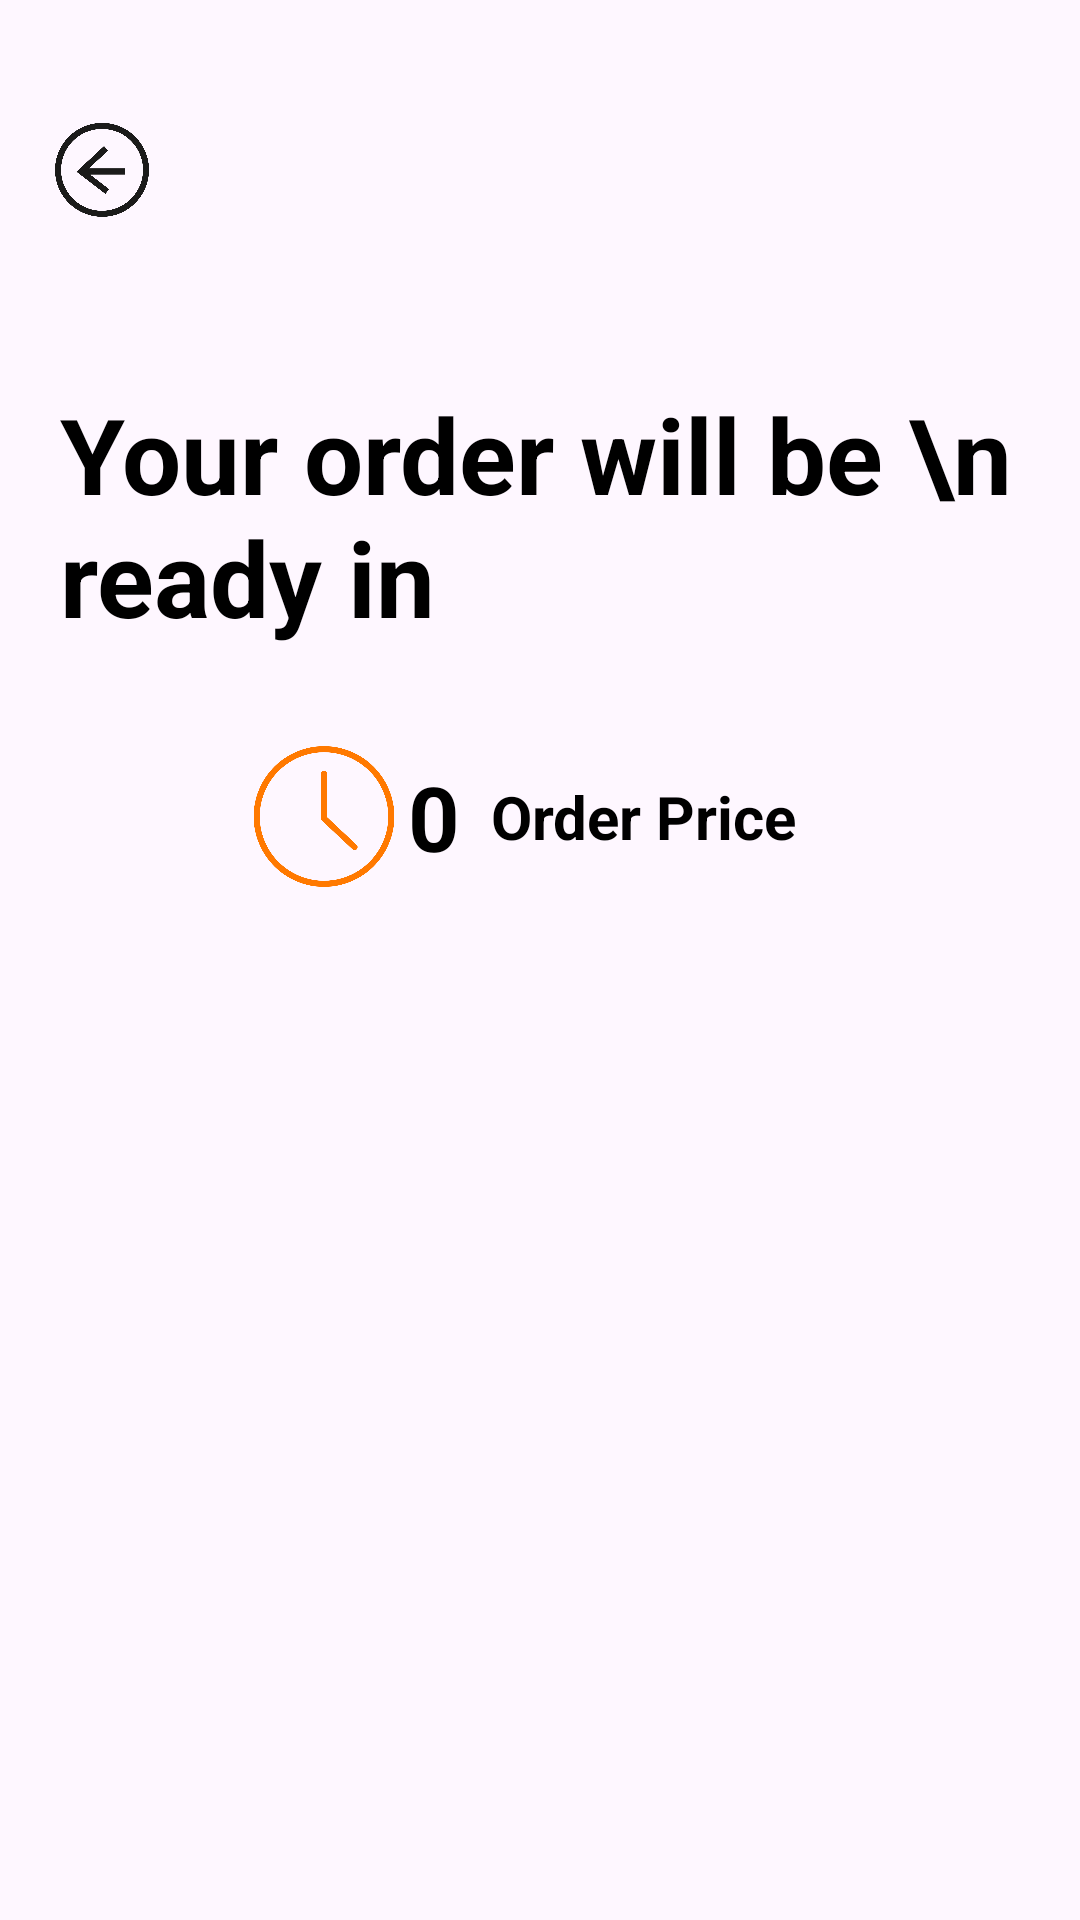

Where to tap for icons on this 1080px×1920px app screen, as point (x, y):
countdown: point (324, 816)
